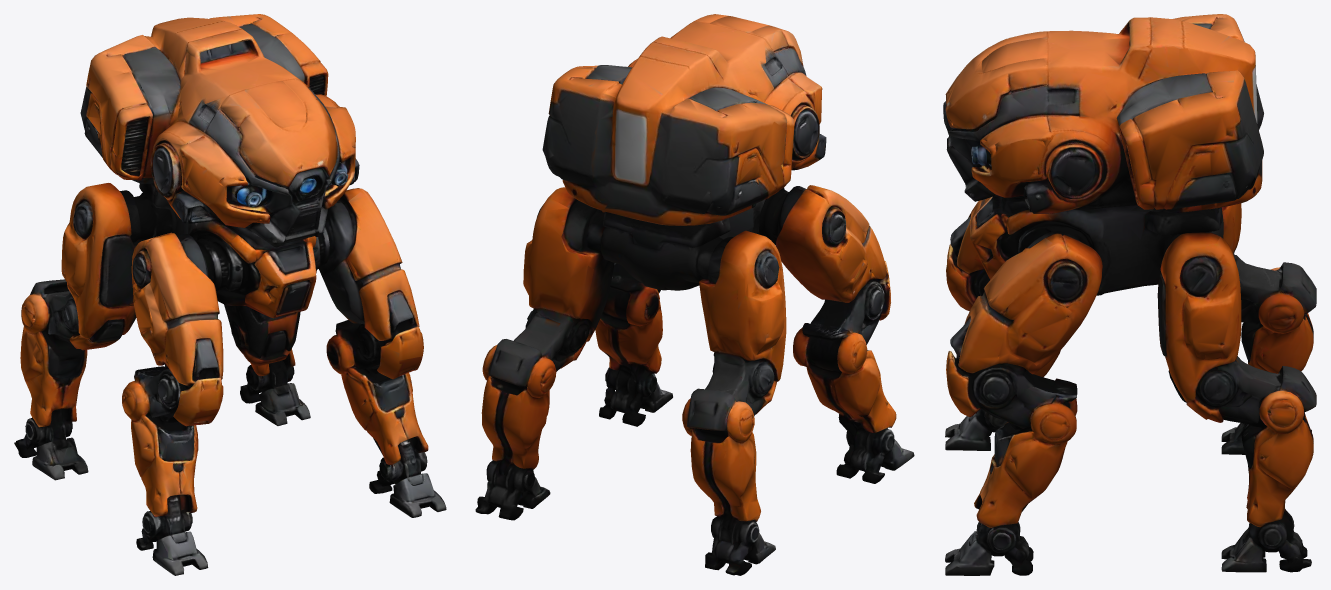
The model's file is web.glb.
3 views of the same model, side by side, from view 1: azimuth 30°, elevation 25°; view 2: azimuth 150°, elevation 25°; view 3: azimuth 270°, elevation 25° (orthographic). The views are drawn at different scales.
Parts seen in each view (by area): view 1: model; view 2: model; view 3: model.
Boxes of the visible parts, x1=… form: model: x1=14, y1=14, x2=446, y2=575; model: x1=475, y1=14, x2=914, y2=575; model: x1=943, y1=14, x2=1316, y2=575.
Bounding box in the file's own units: 1.32 × 2 × 1.43.
1 material, 1 textured.
